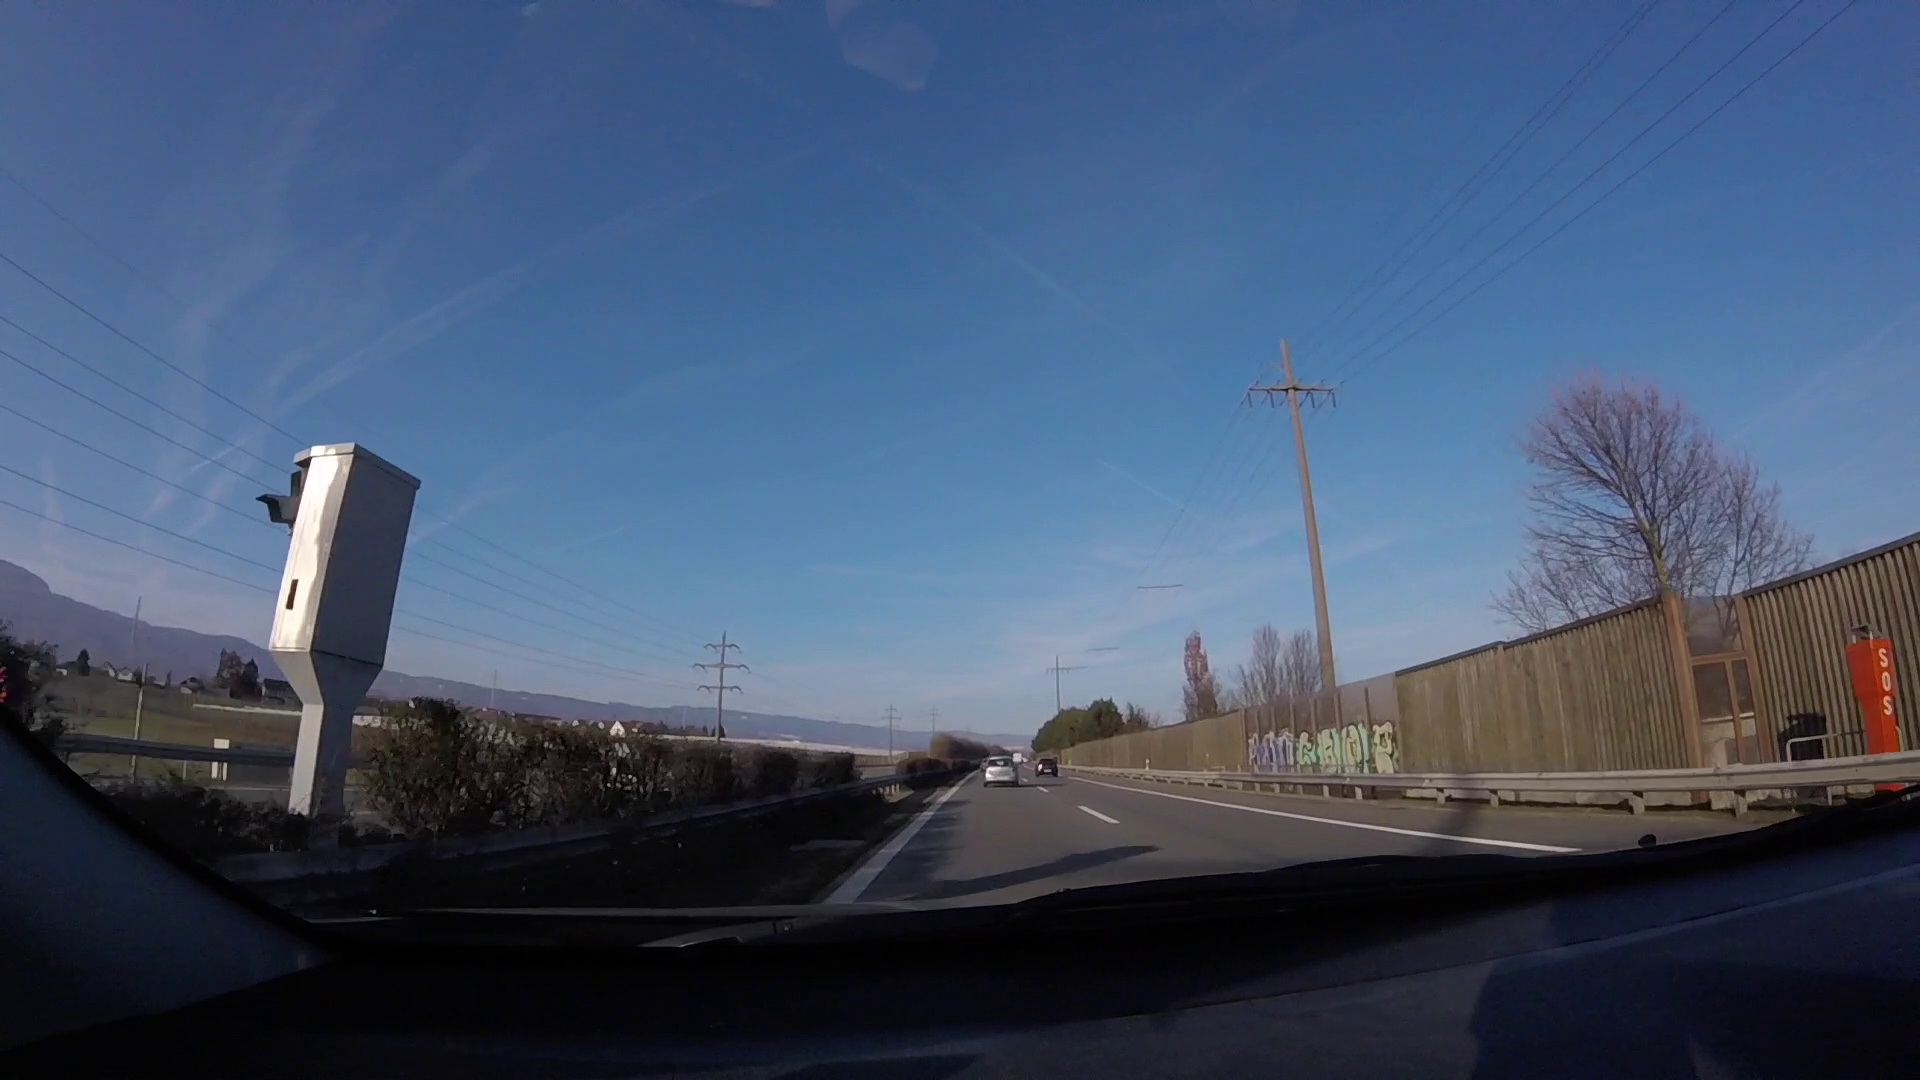radar: (251, 440, 429, 828)
